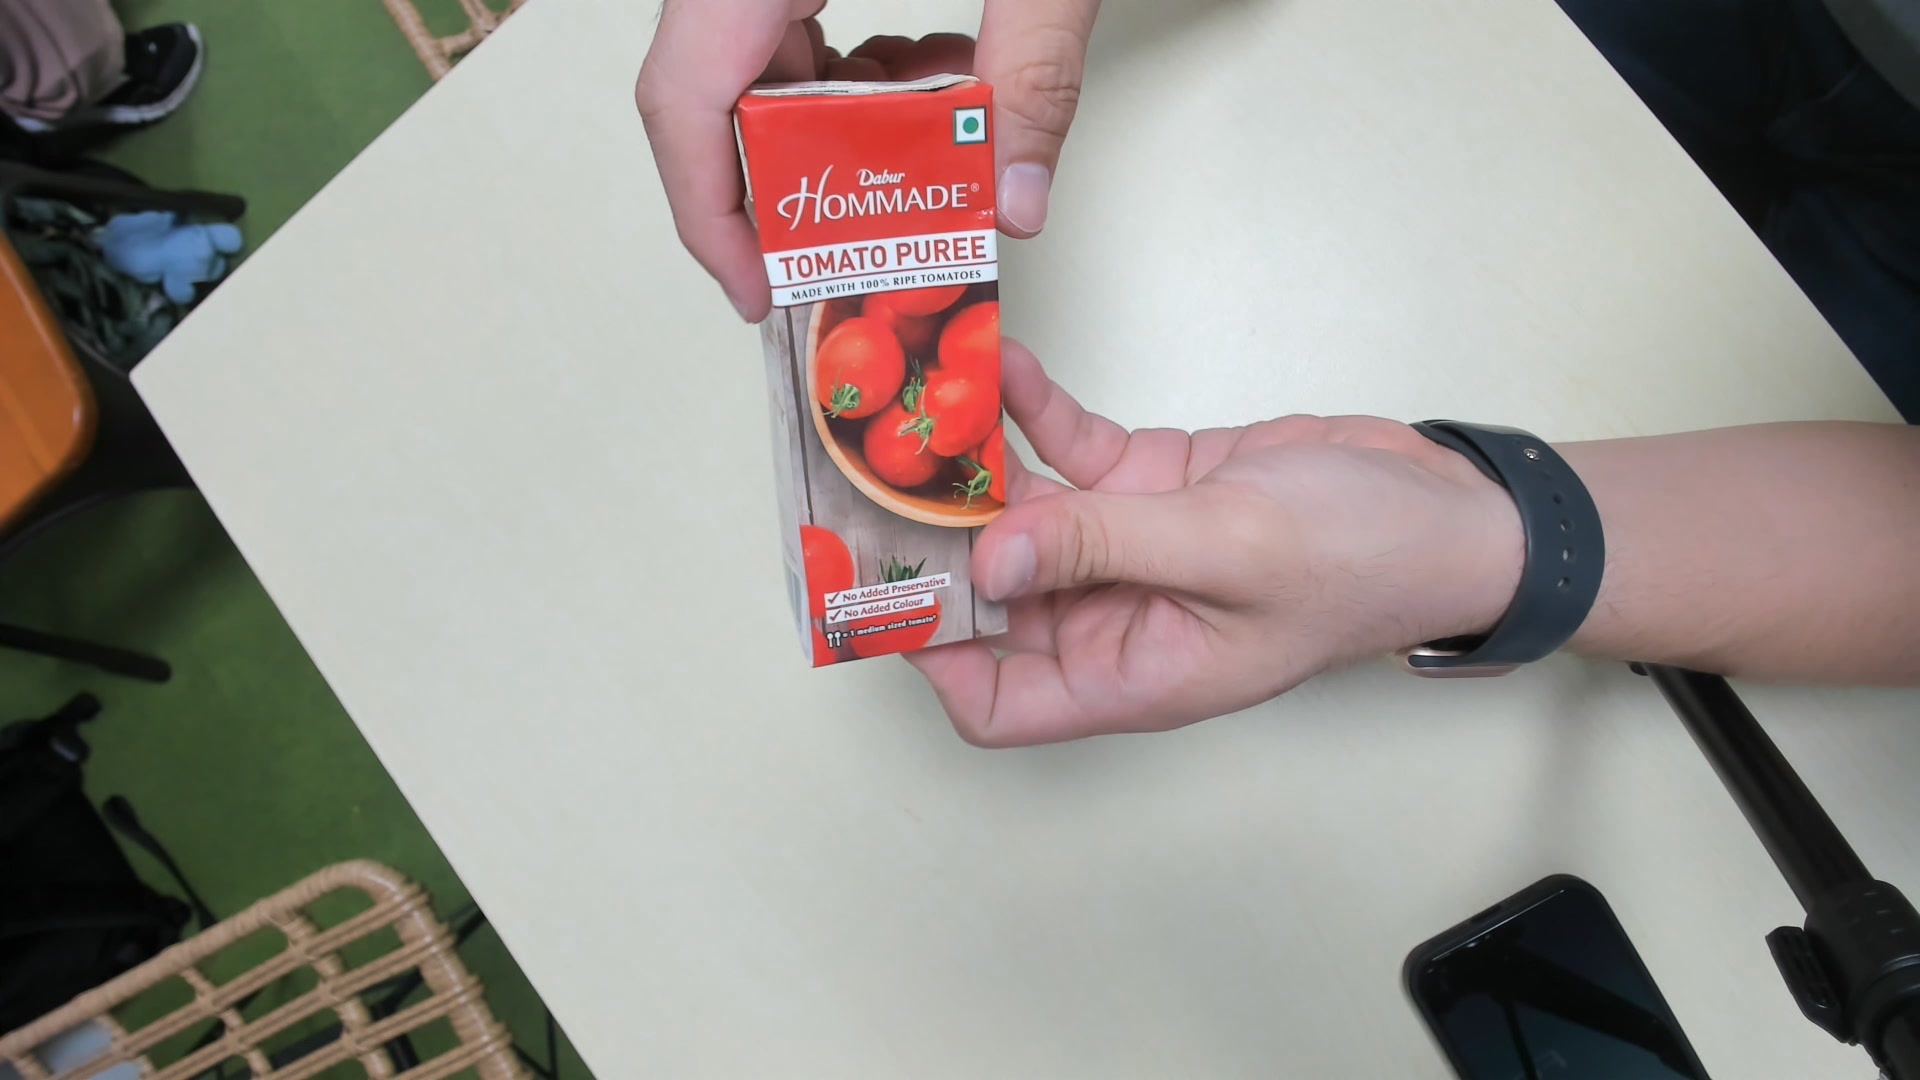OtherSauceDressing_200-299g_NonHalal_NonHealthy: (735, 66, 1011, 670)
